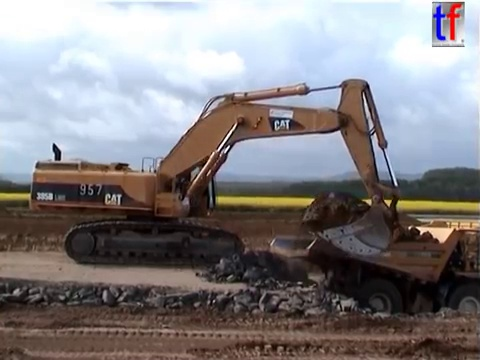excavator: (26, 76, 406, 271)
truck: (267, 216, 480, 334)
